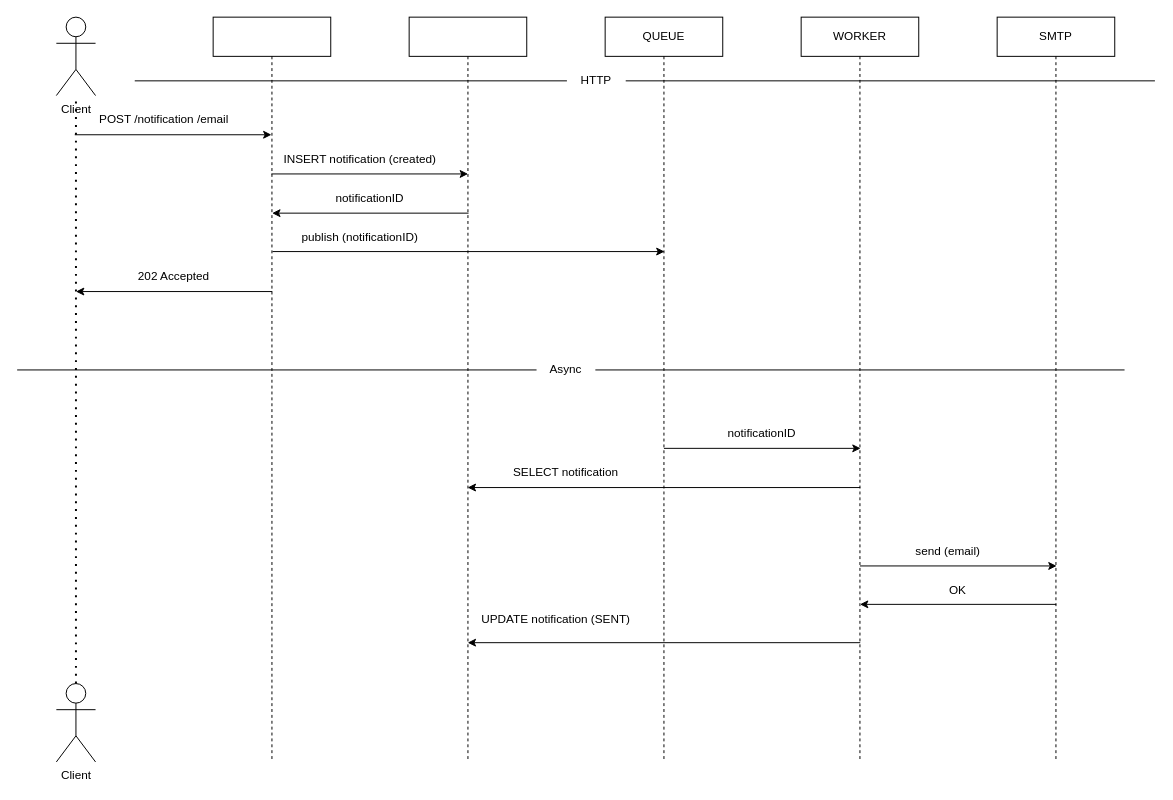
Some shapes in this 1173 by 800 pixel diagram are drawn without their labels. The shapes that lost their labels are listed below. From the top down, each one's box as (x1, y1, x2, y2) in pixels, then its label:
(212, 16, 331, 762): Notification API
(408, 16, 527, 762): DATABASE
